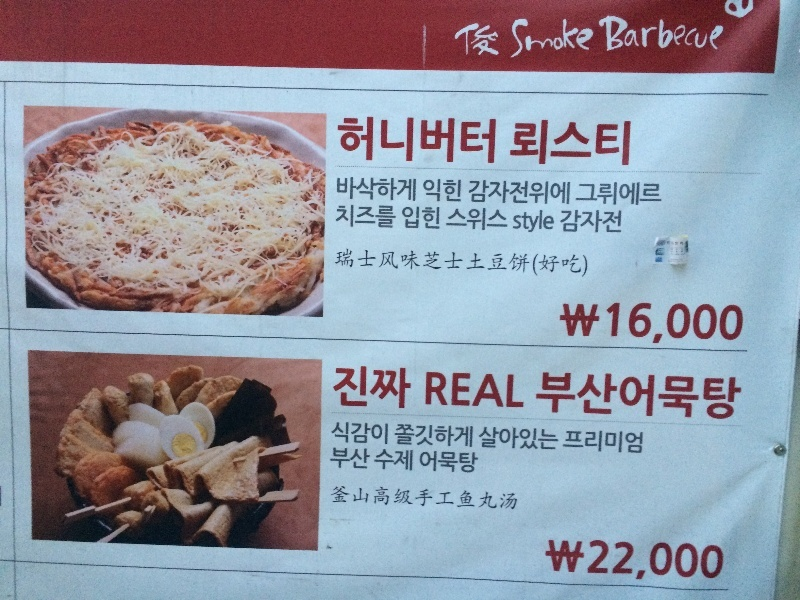text: (481, 116, 497, 166), (545, 370, 560, 422), (561, 370, 576, 422), (577, 370, 592, 422), (593, 370, 608, 422), (609, 370, 624, 422), (625, 370, 640, 422), (641, 370, 656, 422), (657, 370, 672, 422), (673, 370, 688, 422), (689, 370, 704, 422), (705, 370, 720, 422), (721, 370, 736, 422), (337, 116, 352, 166), (353, 116, 368, 166), (369, 116, 384, 166), (385, 116, 400, 166), (401, 116, 416, 166), (417, 116, 432, 166), (433, 116, 448, 166), (449, 116, 464, 166), (465, 116, 480, 166), (529, 119, 544, 168), (545, 119, 560, 168), (561, 119, 576, 168), (577, 119, 592, 168), (593, 119, 608, 168), (609, 119, 624, 168), (545, 537, 560, 585), (561, 537, 576, 585), (577, 537, 592, 585), (593, 537, 608, 585), (609, 537, 624, 585), (625, 537, 640, 585), (641, 537, 656, 585), (657, 537, 672, 585), (673, 537, 688, 585), (689, 537, 704, 585), (705, 537, 720, 585), (337, 366, 352, 411), (353, 366, 368, 411), (369, 366, 384, 411), (385, 366, 400, 411), (561, 301, 576, 346), (577, 301, 592, 346), (593, 301, 608, 346), (609, 301, 624, 346), (625, 301, 640, 346), (641, 301, 656, 346), (657, 301, 672, 346), (673, 301, 688, 346), (689, 301, 704, 346), (705, 301, 720, 346), (721, 301, 736, 346), (513, 17, 528, 61), (529, 17, 544, 61), (545, 17, 560, 61), (561, 17, 576, 61), (577, 17, 592, 61), (515, 119, 528, 168), (433, 371, 448, 410), (449, 371, 464, 410), (465, 371, 480, 410), (481, 371, 496, 410), (497, 371, 512, 410), (465, 21, 480, 60), (481, 21, 496, 60), (609, 15, 624, 53), (625, 15, 640, 53), (641, 15, 656, 53), (657, 15, 672, 53), (673, 15, 688, 53), (689, 15, 704, 53), (705, 15, 720, 53), (401, 366, 413, 411), (513, 371, 526, 410), (337, 248, 352, 280), (353, 248, 368, 280), (369, 248, 384, 280), (385, 248, 400, 280), (401, 248, 416, 280), (417, 248, 432, 280), (433, 248, 448, 280), (449, 248, 464, 280), (465, 248, 480, 280), (481, 248, 496, 280), (497, 248, 512, 280), (513, 248, 528, 280), (529, 248, 544, 280), (545, 248, 560, 280), (561, 248, 576, 280), (337, 485, 352, 515), (353, 485, 368, 515), (369, 485, 384, 515), (385, 485, 400, 515), (401, 485, 416, 515), (417, 485, 432, 515), (433, 485, 448, 515), (449, 485, 464, 515), (465, 485, 480, 515), (481, 485, 496, 515), (497, 485, 512, 515), (337, 174, 352, 203), (353, 174, 368, 203), (369, 174, 384, 203), (385, 174, 400, 203), (401, 174, 416, 203), (481, 424, 496, 452), (497, 424, 512, 452), (513, 424, 528, 452), (529, 424, 544, 452), (385, 449, 400, 476), (401, 449, 416, 476), (417, 449, 432, 476), (433, 449, 448, 476), (449, 449, 464, 476), (465, 449, 480, 476), (337, 420, 352, 447), (353, 420, 368, 447), (369, 420, 384, 447), (401, 423, 416, 450), (417, 423, 432, 450), (433, 423, 448, 450), (449, 423, 464, 450), (577, 430, 592, 457), (593, 430, 608, 457), (609, 430, 624, 457), (625, 430, 640, 457), (481, 179, 496, 206), (497, 179, 512, 206), (513, 179, 528, 206), (529, 179, 544, 206), (545, 179, 560, 206), (337, 203, 352, 230), (353, 203, 368, 230), (369, 203, 384, 230), (609, 210, 625, 235), (545, 424, 559, 452), (625, 119, 633, 168), (433, 178, 448, 204), (465, 207, 480, 233), (481, 207, 496, 233), (513, 209, 528, 235), (529, 209, 544, 235), (577, 248, 589, 280), (598, 15, 608, 53), (577, 181, 592, 206), (593, 181, 608, 206), (609, 181, 624, 206), (625, 181, 640, 206), (641, 181, 656, 206), (417, 206, 432, 231), (561, 210, 576, 235), (577, 210, 592, 235), (593, 210, 608, 235), (737, 370, 744, 422), (449, 178, 463, 204), (337, 447, 352, 471), (353, 447, 368, 471), (402, 206, 416, 231), (451, 207, 464, 233), (468, 179, 480, 206), (385, 203, 397, 230), (737, 301, 744, 346), (497, 207, 509, 233), (456, 21, 464, 60), (561, 179, 572, 206), (425, 371, 432, 410), (465, 423, 475, 450), (566, 430, 576, 457), (513, 485, 522, 515), (721, 15, 728, 53), (545, 209, 555, 235), (375, 449, 384, 476), (423, 178, 432, 204), (433, 206, 441, 231), (721, 537, 725, 585), (394, 423, 400, 450), (541, 370, 544, 422), (497, 21, 501, 60), (657, 181, 663, 206), (331, 485, 336, 515), (330, 447, 336, 471), (593, 17, 596, 61), (385, 420, 389, 447), (334, 366, 336, 411), (333, 420, 336, 447), (641, 430, 644, 457), (369, 447, 372, 471), (559, 301, 560, 346), (511, 17, 512, 61), (417, 174, 418, 203), (479, 424, 480, 452), (335, 203, 336, 230)
